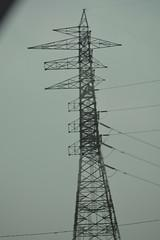power_tower: (39, 8, 124, 240)
